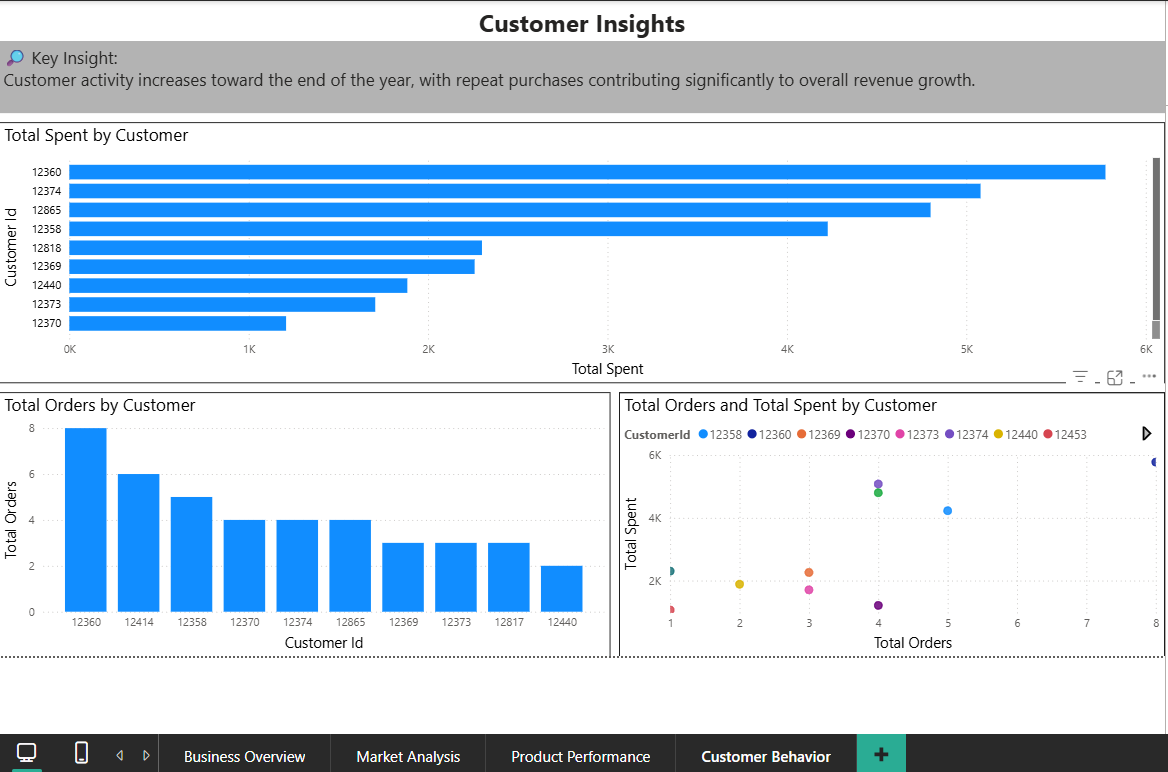

The dashboard page shown, as its layout file describes it:
{"tool":"powerbi","page":{"name":"Customer Behavior","canvas":[1280,720],"ordinal":3},"visuals":[{"type":"textbox","box":[0,0,1280.3,52.1],"z":0},{"type":"clusteredBarChart","title":"Total Spent by Customer","fields":{"Category":["retail_intelligence customer_value_vw.CustomerId"],"Y":["Sum(retail_intelligence customer_value_vw.total_spent)"]},"box":[0,133.1,1280.3,286.8],"z":1000},{"type":"clusteredColumnChart","title":"Total Orders by Customer","fields":{"Y":["Sum(retail_intelligence customer_value_vw.total_orders)"],"Category":["retail_intelligence customer_value_vw.CustomerId"]},"box":[0,429.5,671,290.9],"z":2000},{"type":"scatterChart","title":"Total Orders and Total Spent by Customer","fields":{"X":["Sum(retail_intelligence customer_value_vw.total_orders)"],"Y":["Sum(retail_intelligence customer_value_vw.total_spent)"],"Series":["retail_intelligence customer_value_vw.CustomerId"]},"box":[680.6,429.5,599.7,290.9],"z":3000},{"type":"textbox","box":[0,43.9,1280.3,79.6],"z":4001}]}

Visuals, with their boxes on the page's 1280x720 design canvas (x1, y1, x2, y2). These are canvas units, not pixel positions in the 1168x772 screenshot, which may show the page scaled, cropped or inside an application window:
textbox: box=[0, 0, 1280, 52]
"Total Spent by Customer" clusteredBarChart: box=[0, 133, 1280, 420]
"Total Orders by Customer" clusteredColumnChart: box=[0, 430, 671, 720]
"Total Orders and Total Spent by Customer" scatterChart: box=[681, 430, 1280, 720]
textbox: box=[0, 44, 1280, 124]
